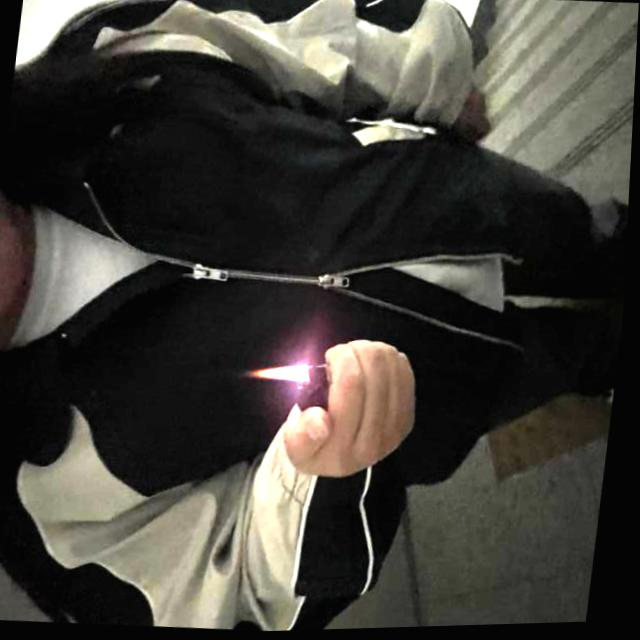Fire: (253, 363, 303, 386)
